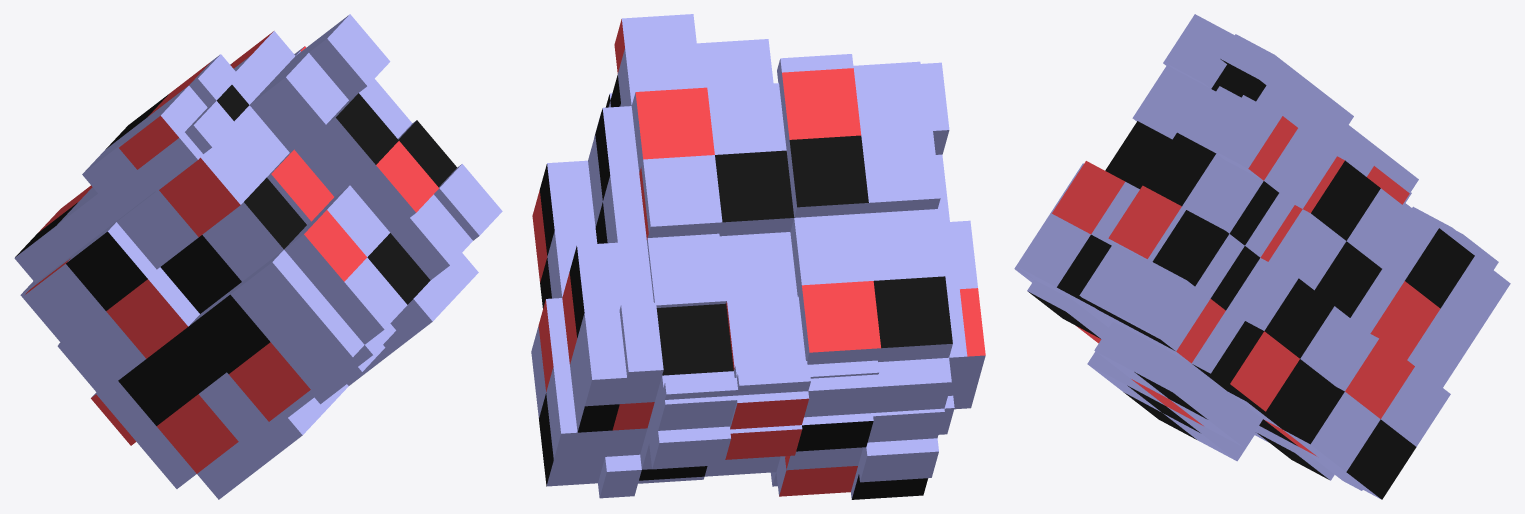
Rendered from ionizedEtherCrystal 1.fbx.
3 views of the same model, side by side, from view 1: azimuth 30°, elevation 25°; view 2: azimuth 150°, elevation 25°; view 3: azimuth 270°, elevation 25° (orthographic). The views are drawn at different scales.
Visible parts, largest first — view 1: Cube; view 2: Cube; view 3: Cube.
Part boxes in pixels (x1,y1,x2,y2): Cube: (14,14,502,499); Cube: (531,14,985,499); Cube: (1014,14,1510,499).
Size of the model in its own units: 54.24 by 48.25 by 54.44.
